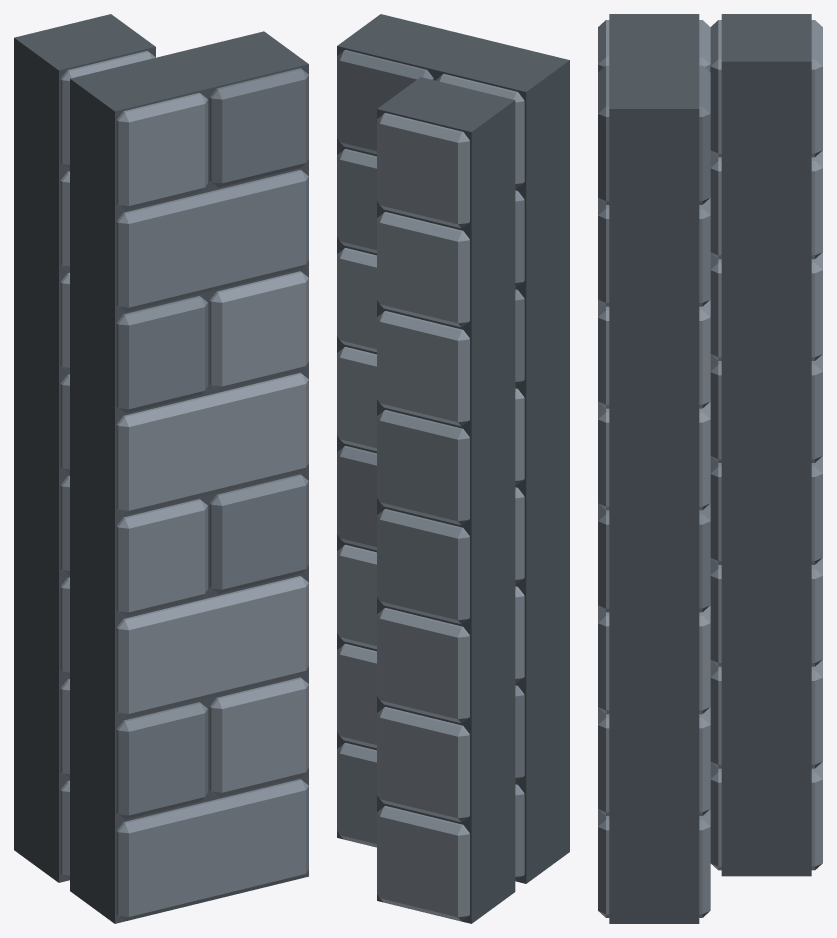
The model's file is MOD_17_Wall_InnerCorner.glb.
The picture shows the model from 3 angles, left to right: view 1: azimuth 30°, elevation 25°; view 2: azimuth 150°, elevation 25°; view 3: azimuth 270°, elevation 25°; orthographic projection. The views are drawn at different scales.
Visible parts, largest first — view 1: MOD_17_Wall_InnerCorner; view 2: MOD_17_Wall_InnerCorner; view 3: MOD_17_Wall_InnerCorner.
Boxes of the visible parts, <box> form: MOD_17_Wall_InnerCorner: <box>14,14,308,923</box>; MOD_17_Wall_InnerCorner: <box>337,14,569,923</box>; MOD_17_Wall_InnerCorner: <box>598,14,822,923</box>.
Bounding box in the file's own units: 1 × 4 × 1.
